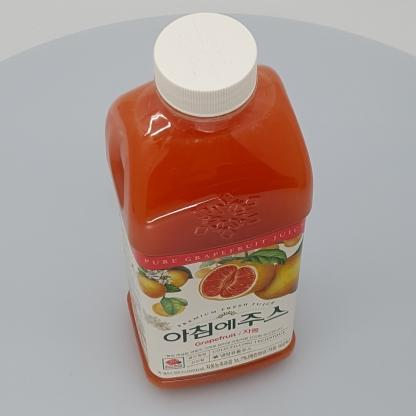-----------950ML: (105, 11, 313, 391)
